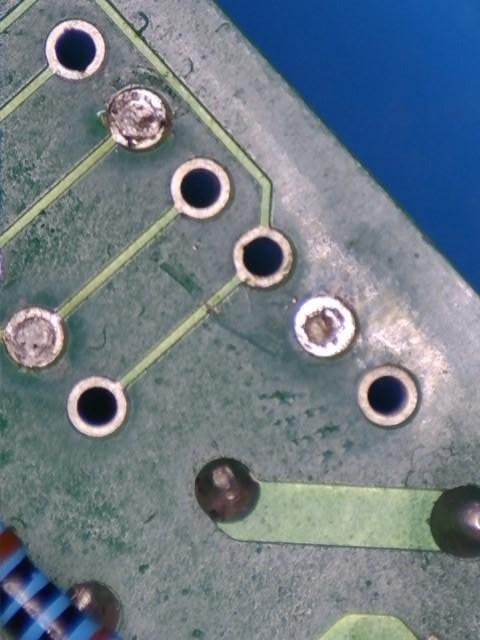pcb_defect: (295, 297, 355, 356), (108, 89, 165, 150), (6, 308, 63, 368)
